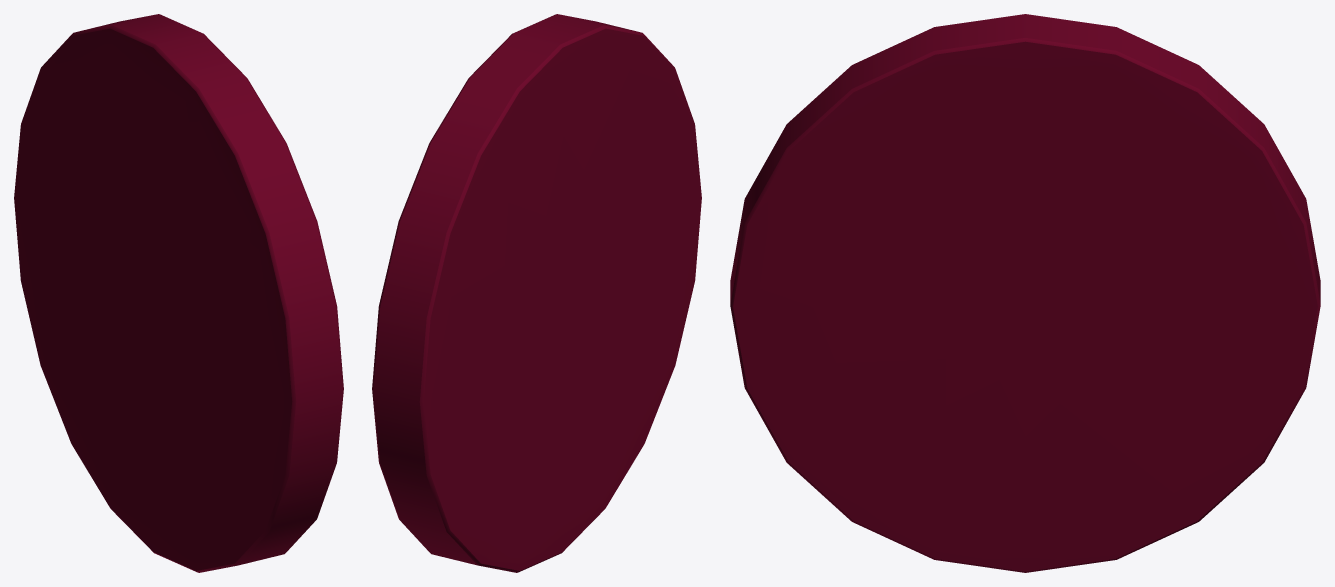
File: Brake_Disk.fbx
3 views of the same model, side by side, from view 1: azimuth 30°, elevation 25°; view 2: azimuth 150°, elevation 25°; view 3: azimuth 270°, elevation 25° (orthographic). The views are drawn at different scales.
Parts seen in each view (by area): view 1: Brake_Disk_Low; view 2: Brake_Disk_Low; view 3: Brake_Disk_Low.
Boxes of the visible parts, x1,y1,x2,y2 form: Brake_Disk_Low: (14,14,343,572); Brake_Disk_Low: (372,14,701,572); Brake_Disk_Low: (730,14,1320,572).
Bounding box in the file's own units: 4.6 × 42.11 × 42.11.
